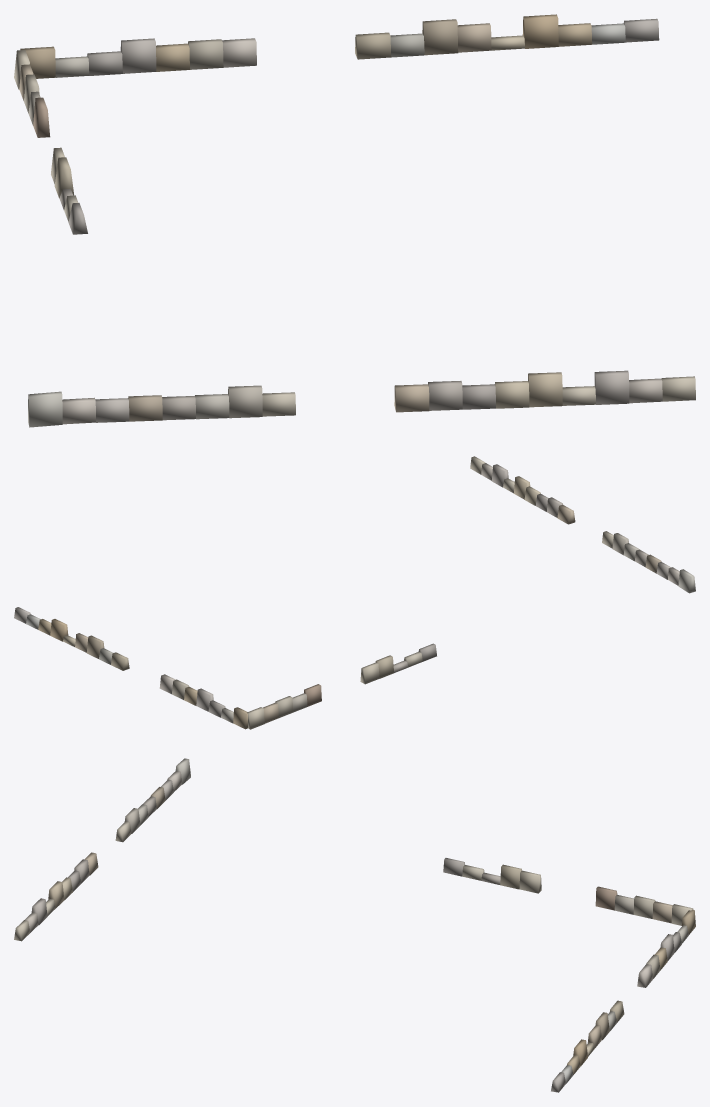
File: farm_-28_-26_collision.glb
3 views of the same model, one above another, from view 1: azimuth 30°, elevation 25°; view 2: azimuth 150°, elevation 25°; view 3: azimuth 270°, elevation 25° (orthographic). The views are drawn at different scales.
Parts seen in each view (by area): view 1: geometry_0; view 2: geometry_0; view 3: geometry_0.
Part boxes in pixels (<box>): geometry_0: <box>14,14,695,427</box>; geometry_0: <box>14,456,695,729</box>; geometry_0: <box>14,758,695,1092</box>.
Size of the model in its own units: 50.3 by 4.35 by 51.24.
